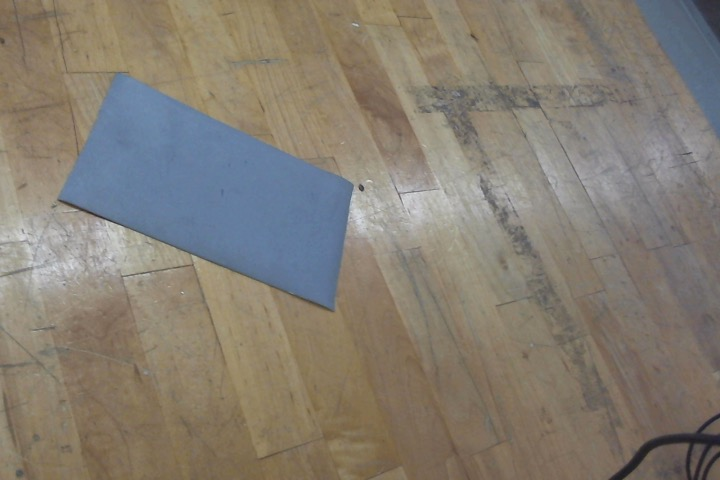Tape: (59, 72, 354, 312)
